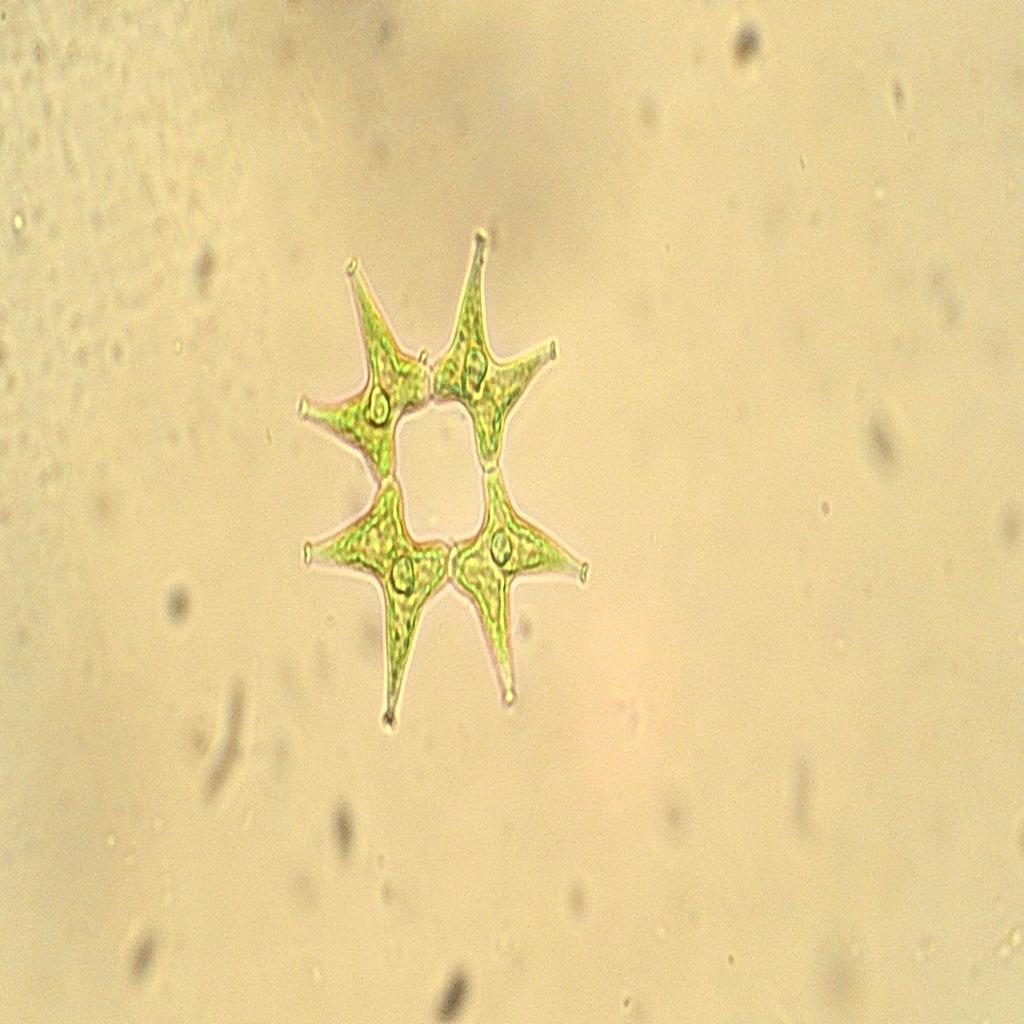Pediastrum_CO: (280, 221, 615, 746)
